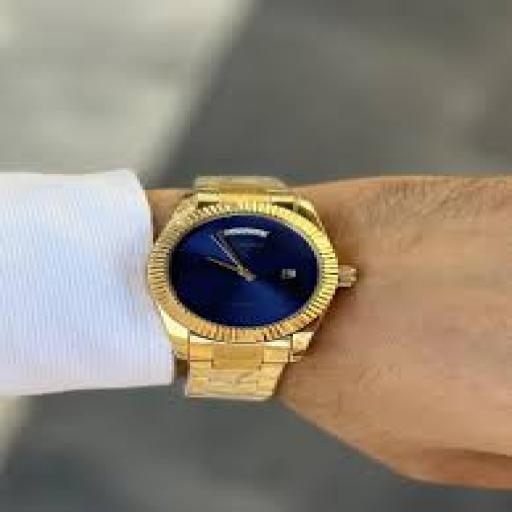KolSaati: (133, 152, 365, 410)
